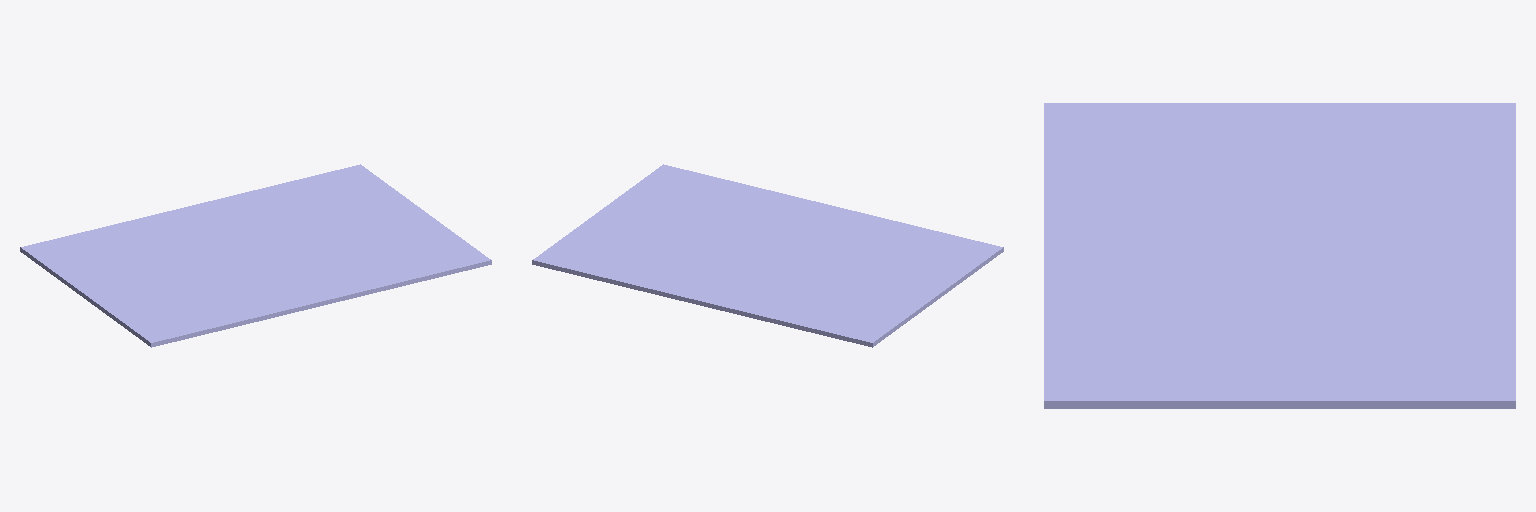
URDF robot description (box1):
<?xml version="1.0"?>
<robot name="box1">
	<link name="base">
		<visual>
			<origin xyz="0 0 0" rpy="0 0 0" />
			<geometry>
				<box size="2.4 1.6 0.03" />
			</geometry>
			<material>
				<color rgba="0.80 0.8 1 1" />
			</material>
		</visual>
  	 <collision>
            <origin xyz="0 0 0" rpy="0 0 0" />
            <geometry>
				<box size="2.4 1.6 0.03" />
            </geometry>
        </collision>
	</link>
</robot>

--- What the picture shows (computed from the rendered views, not written in the file) ---
The picture shows the robot from 3 angles, left to right: view 1: azimuth 30°, elevation 25°; view 2: azimuth 150°, elevation 25°; view 3: azimuth 270°, elevation 25°; orthographic projection.
Robot: box1 — 1 links, 0 joints (none); root link base; default pose: every joint at zero.
Links seen in each view (by area): view 1: base; view 2: base; view 3: base.
Link boxes in pixels (<box>): base: <box>20,164,491,347</box>; base: <box>532,164,1003,347</box>; base: <box>1044,103,1515,408</box>.
Size in the robot's own frame: 2.4 by 1.6 by 0.03 metres.
Geometry: primitives only (box / cylinder / sphere), no mesh files.
